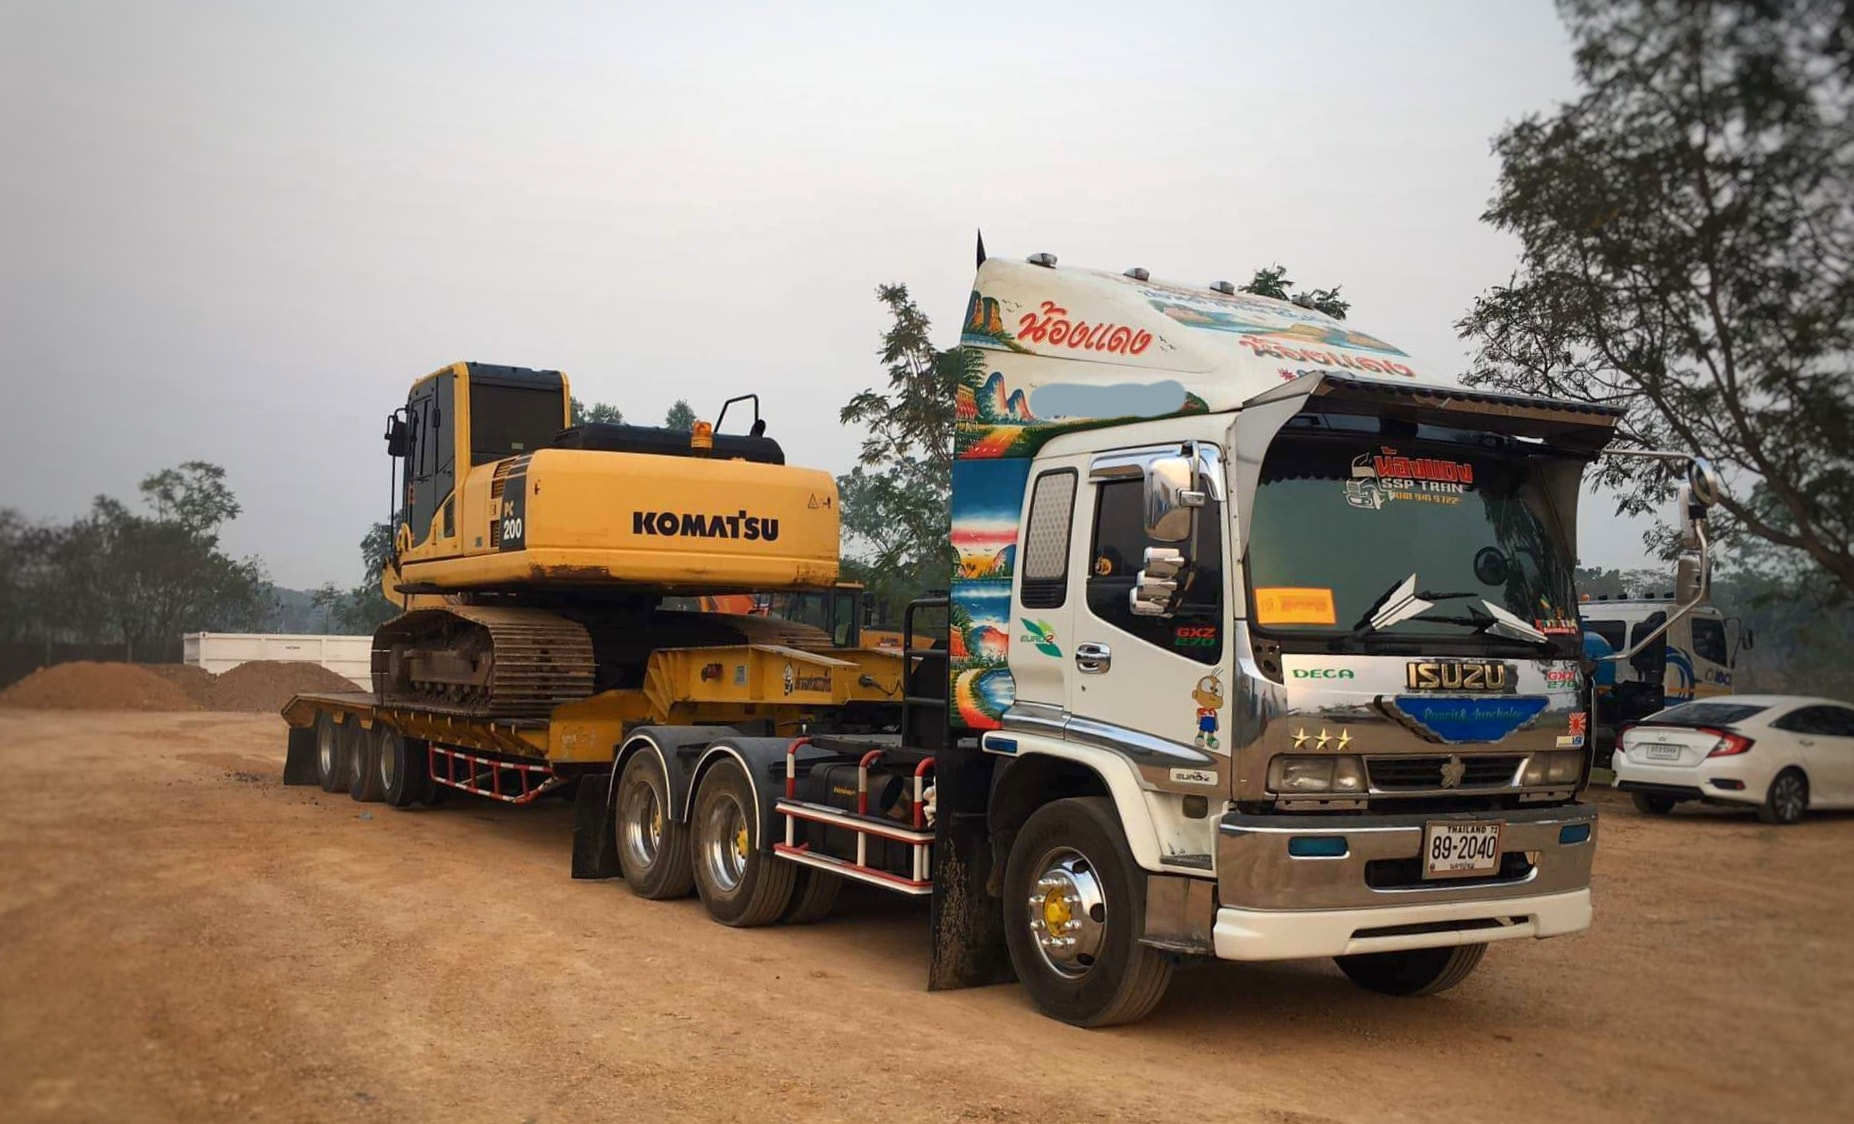truck: (279, 350, 1601, 1030)
